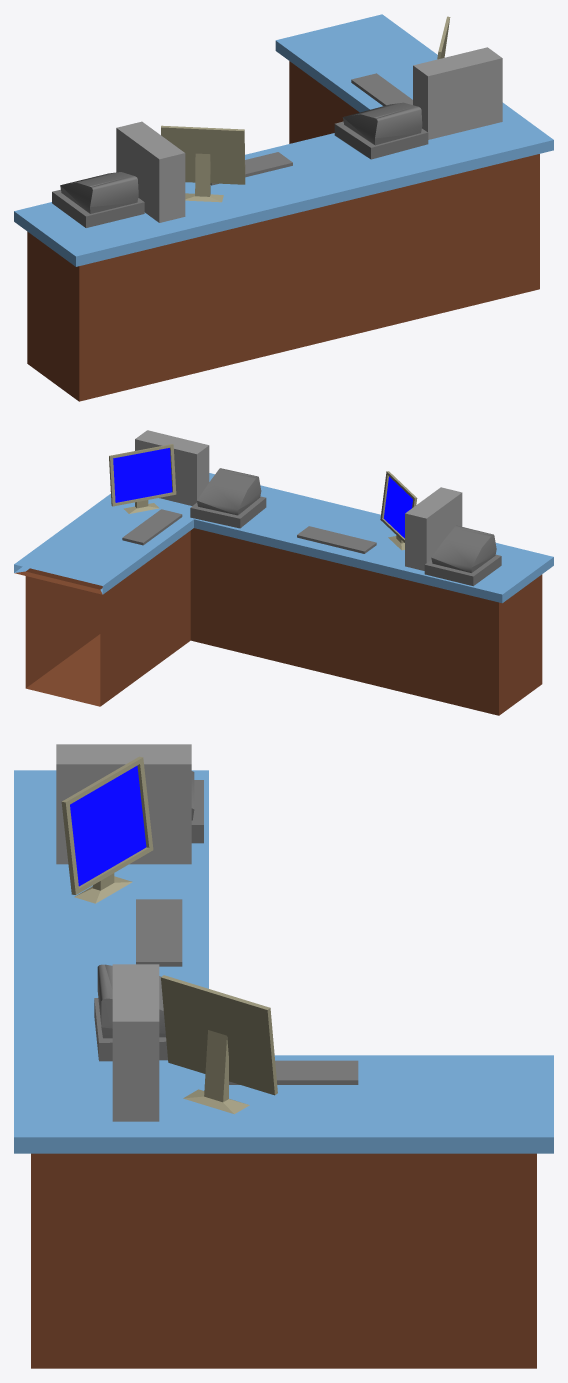
File: cash_desk.glb
3 renders of one model, top to bottom at view 1: azimuth 30°, elevation 25°; view 2: azimuth 150°, elevation 25°; view 3: azimuth 270°, elevation 25°, orthographic. The views are drawn at different scales.
Visible parts, largest first — view 1: cash_desk; view 2: cash_desk; view 3: cash_desk.
Part boxes in pixels (box(x1,y1,x2,y2)): cash_desk: box(14, 14, 553, 401); cash_desk: box(14, 430, 553, 715); cash_desk: box(14, 744, 553, 1368).
Bounding box in the file's own units: 21.94 × 9.7 × 13.65.
